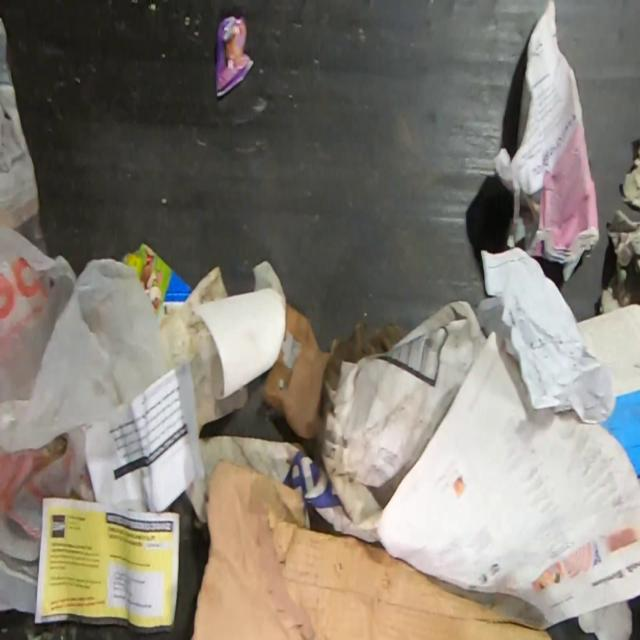cardboard: (188, 454, 555, 640), (260, 297, 338, 441)
soft_plastic: (0, 220, 174, 541), (214, 13, 254, 99)
